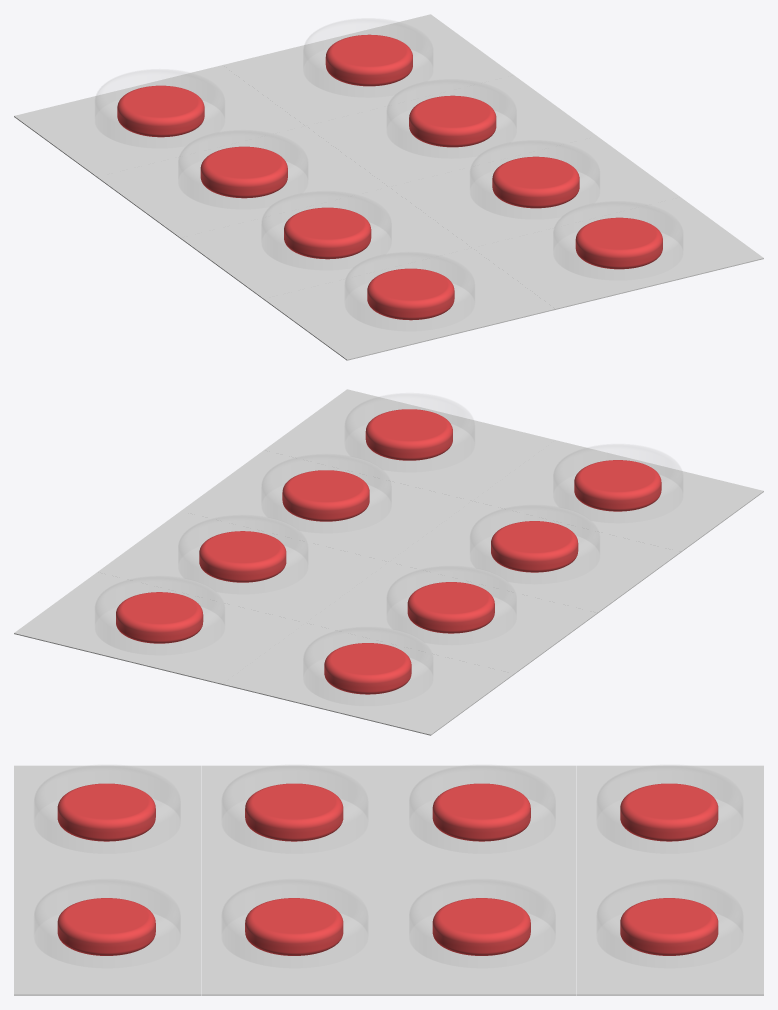
File: Round_Pill_2x4_Red.glb
3 renders of one model, top to bottom at view 1: azimuth 30°, elevation 25°; view 2: azimuth 150°, elevation 25°; view 3: azimuth 270°, elevation 25°, orthographic. The views are drawn at different scales.
Visible parts, largest first — view 1: Round_Pill_Base_2x4, Round_Pill_2x4, Round_Pill_Shell_2x4, Round_Pill_Lid_2x4; view 2: Round_Pill_Base_2x4, Round_Pill_2x4, Round_Pill_Lid_2x4, Round_Pill_Shell_2x4; view 3: Round_Pill_Base_2x4, Round_Pill_2x4, Round_Pill_Shell_2x4, Round_Pill_Lid_2x4.
Boxes of the visible parts, x1,y1,x2,y2 form: Round_Pill_Base_2x4: (14,14,763,360); Round_Pill_2x4: (117,34,662,320); Round_Pill_Shell_2x4: (95,18,682,300); Round_Pill_Lid_2x4: (94,48,683,331); Round_Pill_Base_2x4: (14,389,763,735); Round_Pill_2x4: (116,409,661,694); Round_Pill_Lid_2x4: (94,423,683,706); Round_Pill_Shell_2x4: (95,393,682,674); Round_Pill_Base_2x4: (14,765,763,995); Round_Pill_2x4: (57,783,718,955); Round_Pill_Shell_2x4: (34,765,742,932); Round_Pill_Lid_2x4: (33,798,743,968).
Size of the model in its own units: 6.8 by 0.4541 by 9.41.
